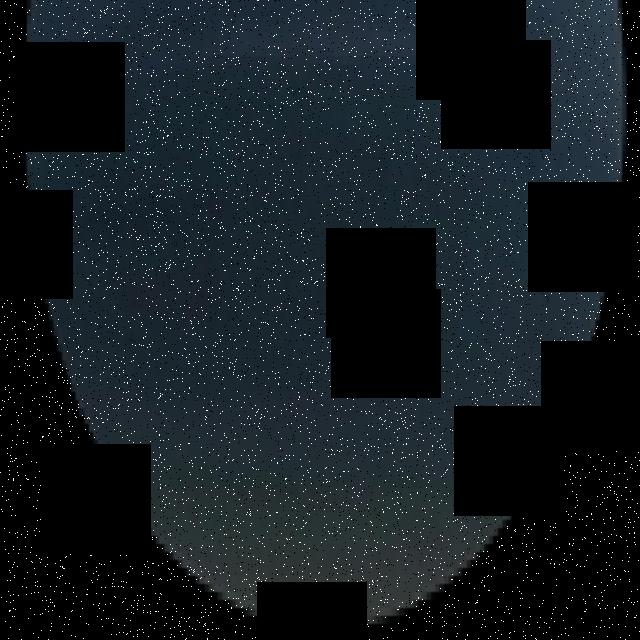Uranus: (18, 0, 636, 640)
